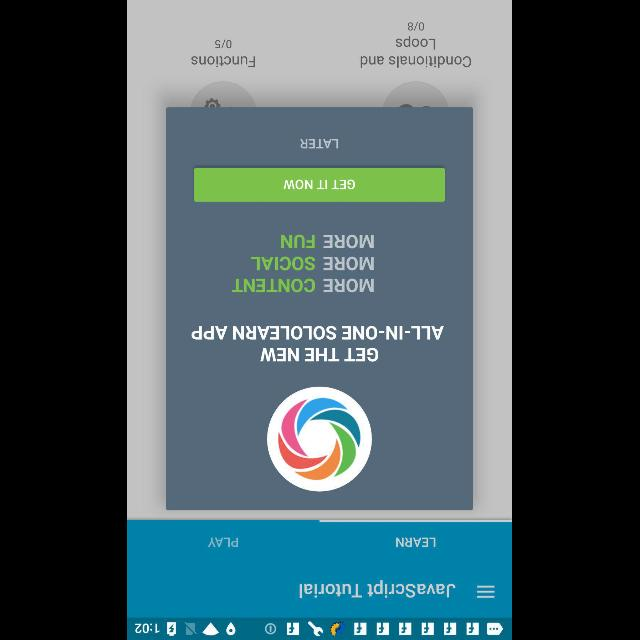icon: (477, 584, 495, 598)
image: (268, 387, 372, 491)
panel: (166, 108, 474, 510)
text: (192, 326, 444, 362), (362, 36, 472, 68), (300, 580, 456, 598), (232, 278, 374, 292), (252, 256, 374, 270), (282, 235, 374, 248), (192, 56, 256, 68), (397, 537, 437, 547), (301, 139, 339, 149), (208, 537, 240, 547), (409, 22, 425, 31), (216, 40, 232, 49)
textbutton: (194, 168, 446, 202)
uppertaskbar: (128, 617, 512, 639)
